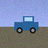vehicle: (14, 16, 38, 33)
